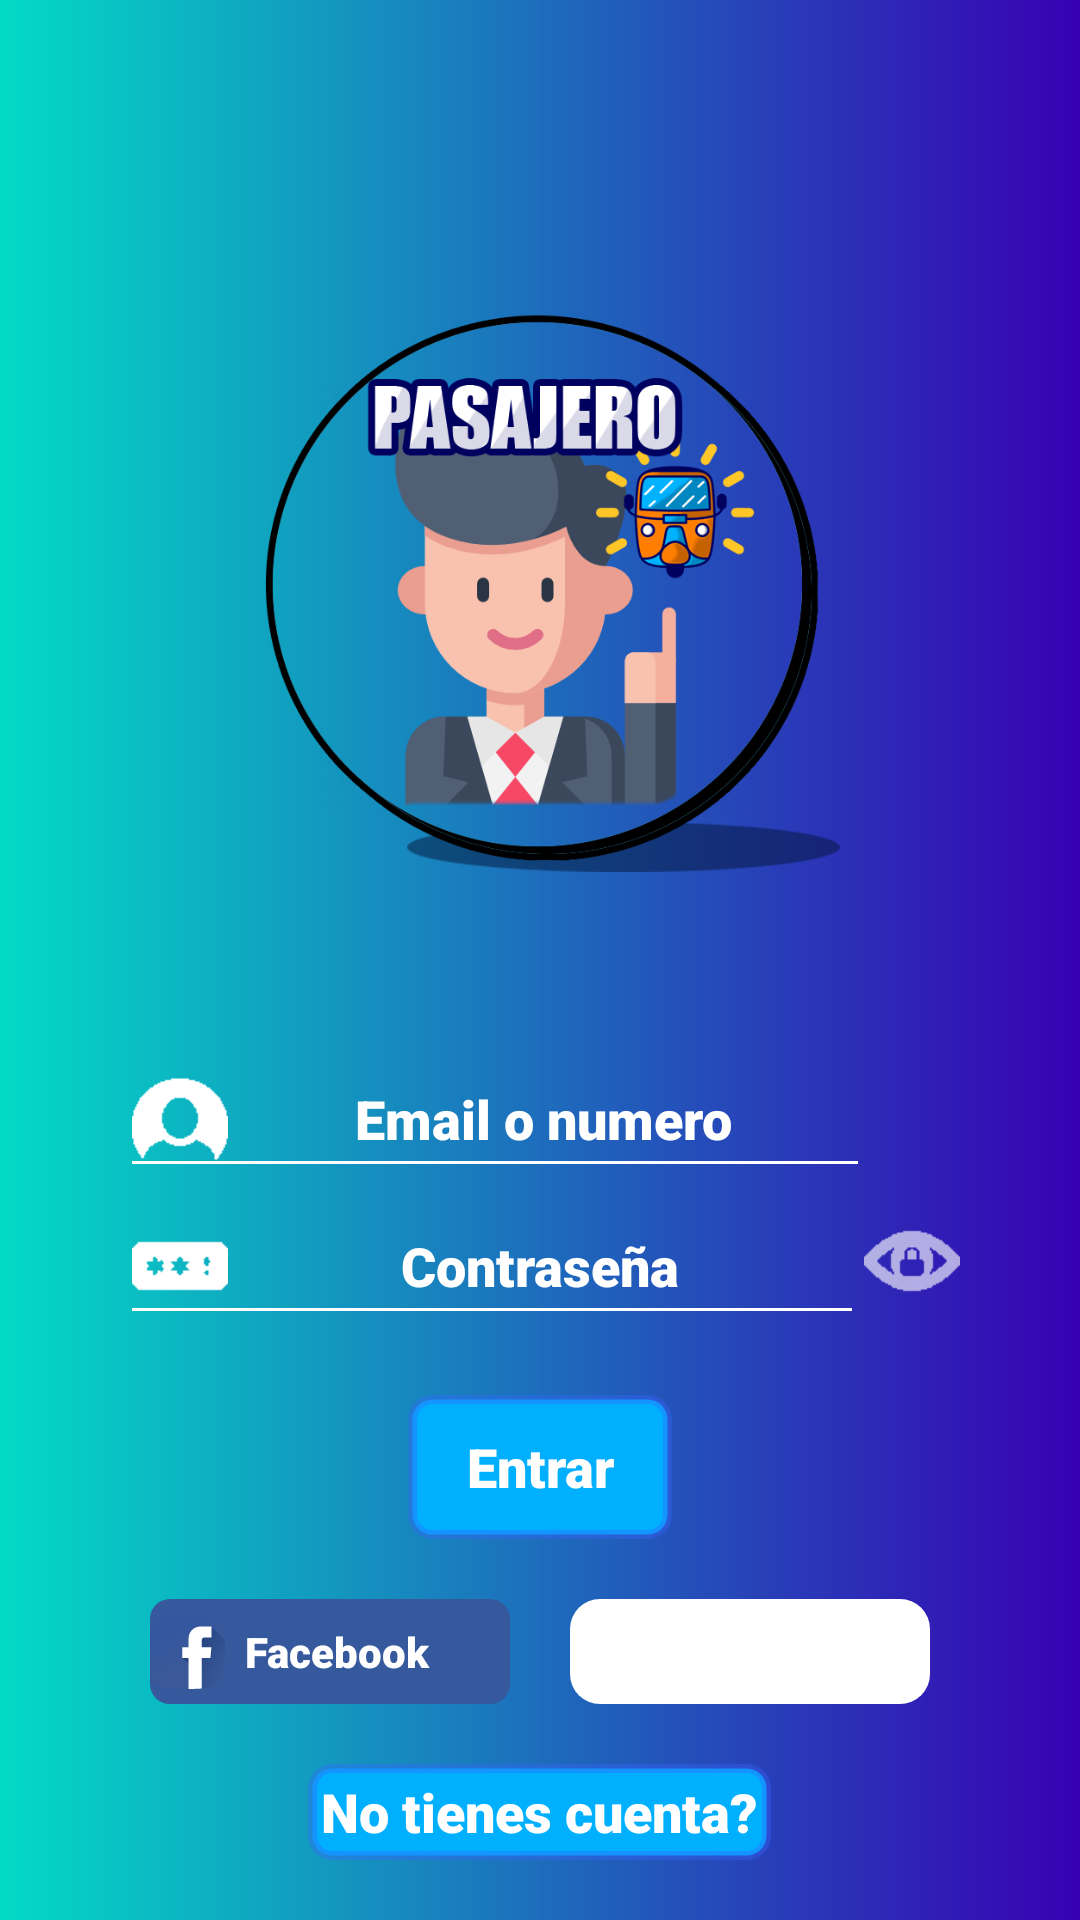

Icon click points for this 1080 x 1920 phone screenshot, format point (x, y):
showpass: point (912, 1261)
